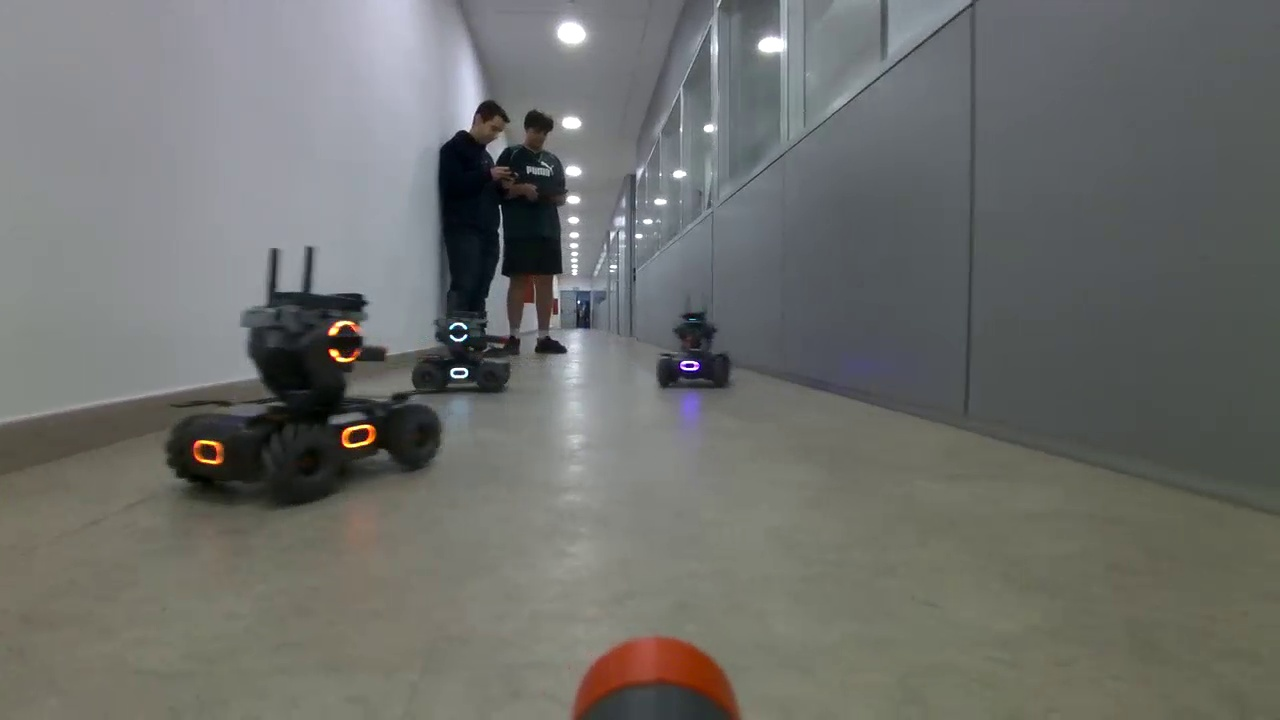robot: (164, 289, 445, 503), (410, 310, 511, 391), (655, 311, 731, 389)
